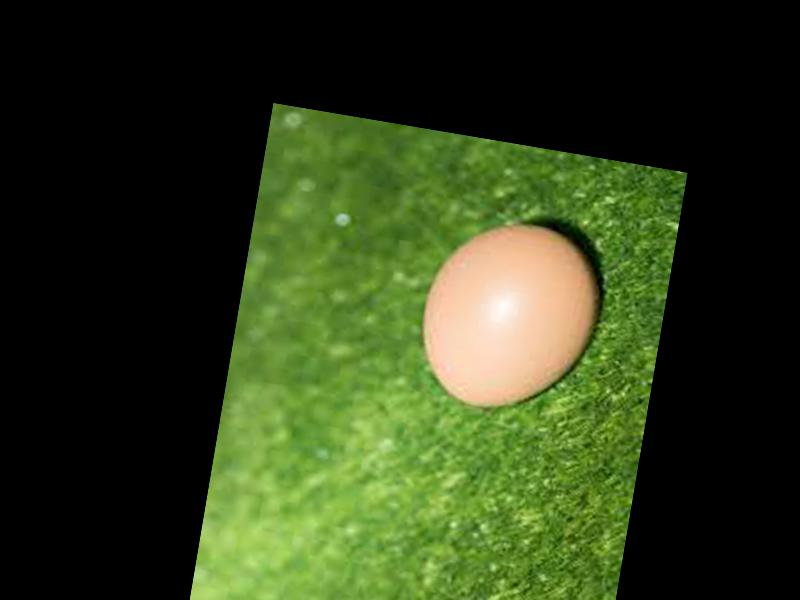Eggs: (412, 208, 611, 425)
